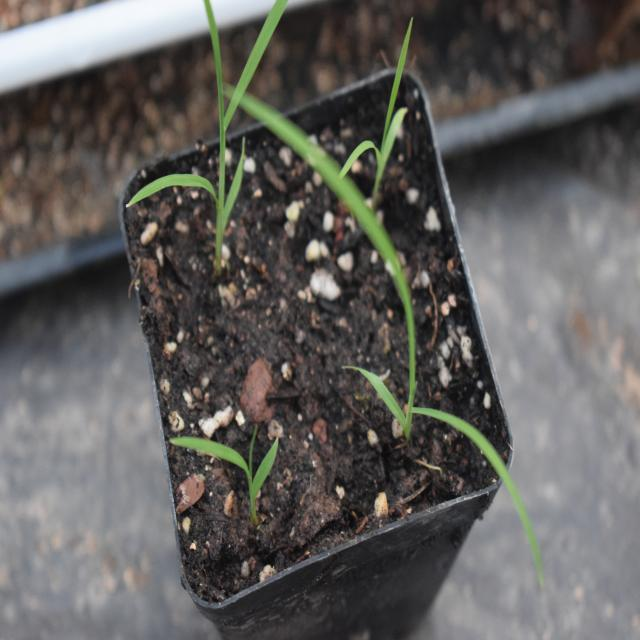barnyard_grass: (129, 0, 309, 267), (143, 402, 310, 514)
